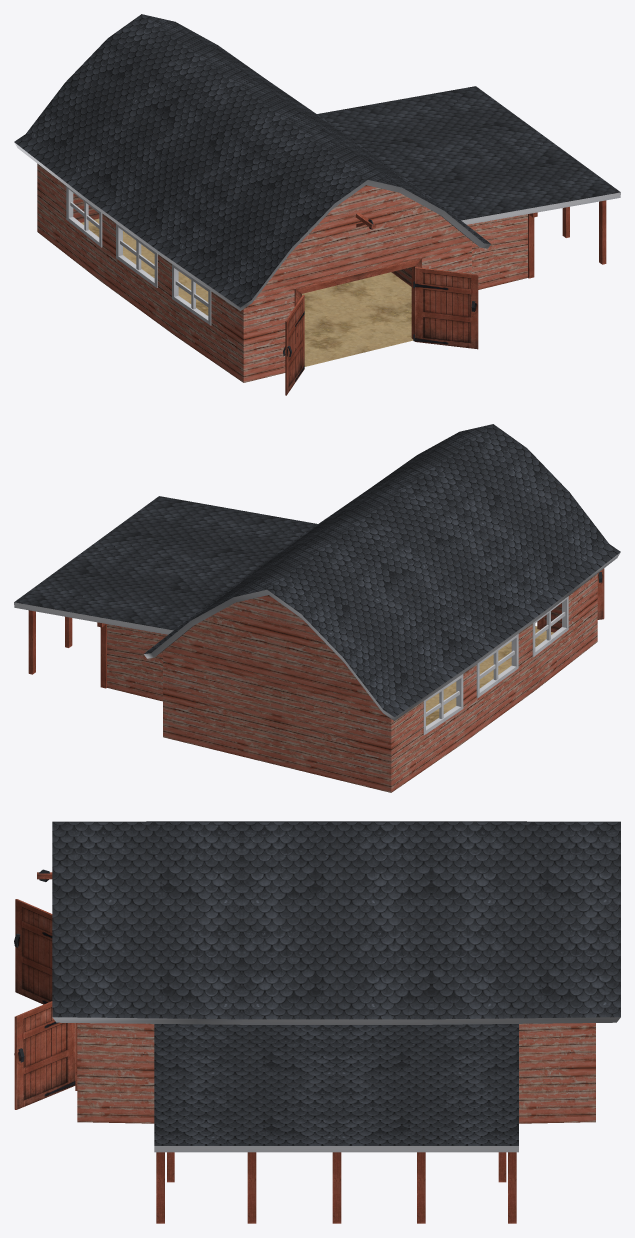
The model's file is Wooden_Farmhouse.fbx.
3 views of the same model, one above another, from view 1: azimuth 30°, elevation 25°; view 2: azimuth 150°, elevation 25°; view 3: azimuth 270°, elevation 25° (orthographic). The views are drawn at different scales.
Parts seen in each view (by area): view 1: Farmhouse_Cube.000; view 2: Farmhouse_Cube.000; view 3: Farmhouse_Cube.000.
Boxes of the visible parts, x1,y1,x2,y2 form: Farmhouse_Cube.000: (14,14,620,395); Farmhouse_Cube.000: (14,424,620,792); Farmhouse_Cube.000: (14,821,620,1223).
Size of the model in its own units: 781 by 321 by 769.
